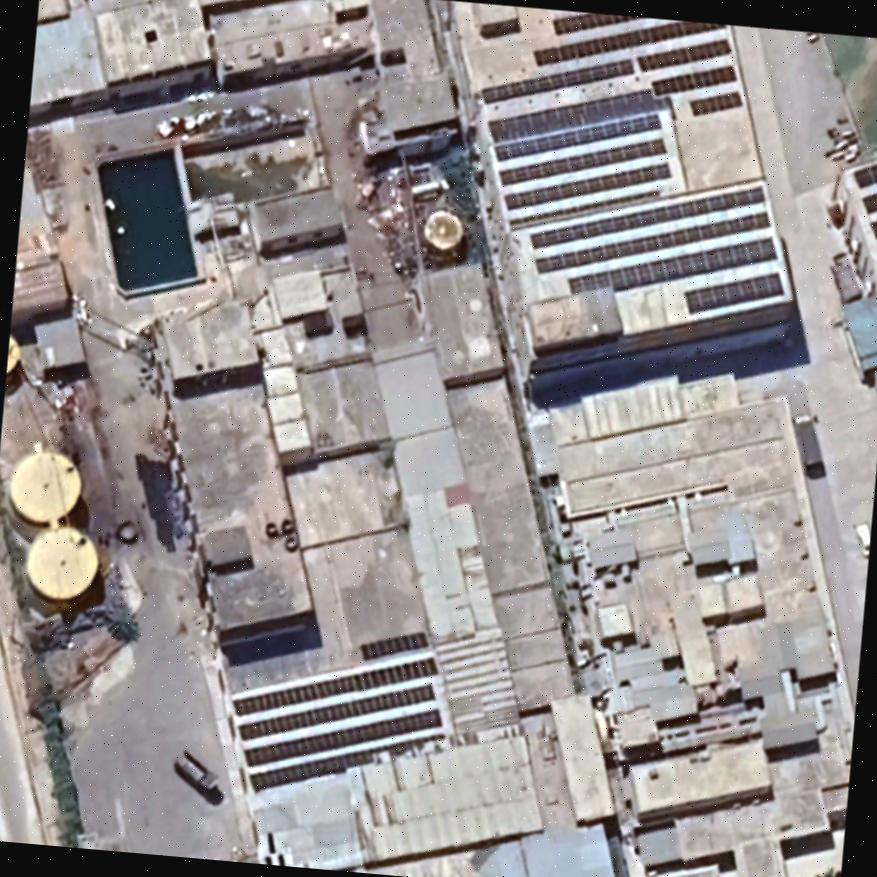Solarpanel: (447, 2, 793, 350), (215, 622, 464, 792), (842, 149, 877, 268)
